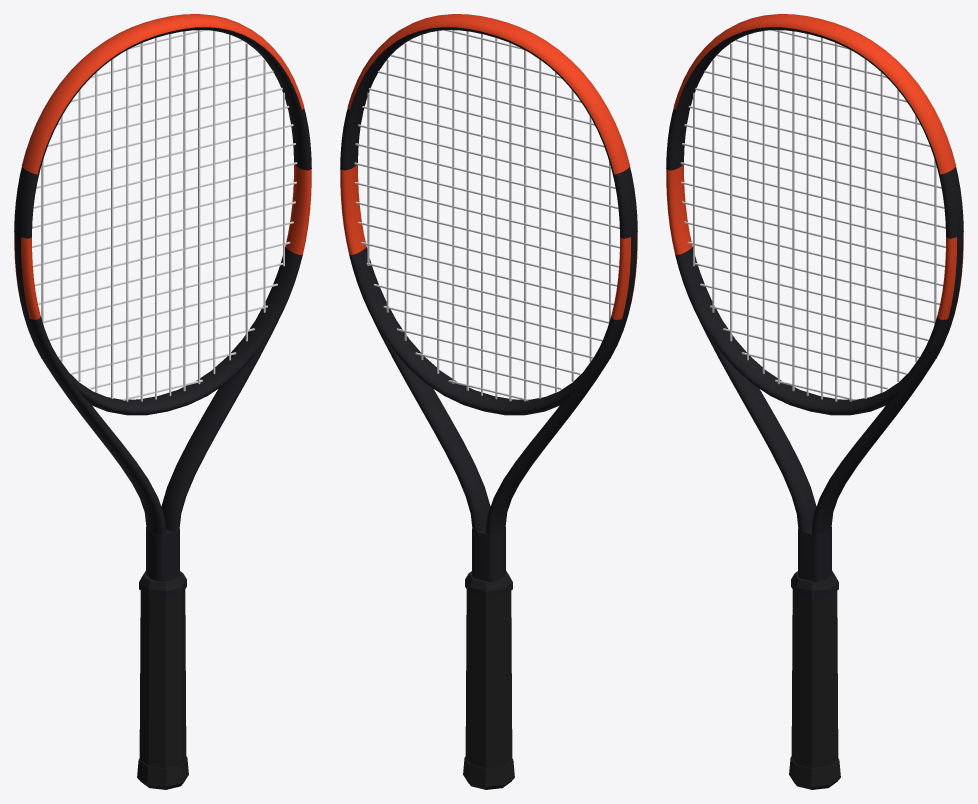
The model's file is babolat-evoke-105.glb.
The picture shows the model from 3 angles, left to right: view 1: azimuth 30°, elevation 25°; view 2: azimuth 150°, elevation 25°; view 3: azimuth 330°, elevation 25°; orthographic projection.
Visible parts, largest first — view 1: frame, strings_mains, strings_crosses, grip, bumper, grommets, butt_cap, collar; view 2: frame, strings_mains, strings_crosses, grip, bumper, grommets, butt_cap, collar; view 3: frame, strings_mains, strings_crosses, grip, bumper, grommets, butt_cap, collar.
Part boxes in pixels (x1,y1,x2,y2): frame: [14, 27, 311, 581]; strings_mains: [41, 30, 284, 401]; strings_crosses: [32, 30, 297, 400]; grip: [139, 590, 186, 768]; bumper: [21, 14, 304, 174]; grommets: [14, 167, 47, 362]; butt_cap: [137, 756, 188, 789]; collar: [139, 571, 186, 597]; frame: [340, 27, 637, 581]; strings_mains: [367, 30, 610, 401]; strings_crosses: [354, 30, 619, 401]; grip: [465, 590, 512, 768]; bumper: [347, 14, 630, 174]; grommets: [604, 167, 637, 362]; butt_cap: [463, 756, 514, 789]; collar: [465, 571, 512, 597]; frame: [666, 27, 963, 581]; strings_mains: [693, 30, 936, 401]; strings_crosses: [680, 30, 945, 400]; grip: [791, 590, 838, 768]; bumper: [673, 14, 956, 174]; grommets: [930, 167, 963, 362]; butt_cap: [789, 756, 840, 789]; collar: [791, 571, 838, 597].
Bounding box in the file's own units: 0.2757 × 0.6861 × 0.0396.
